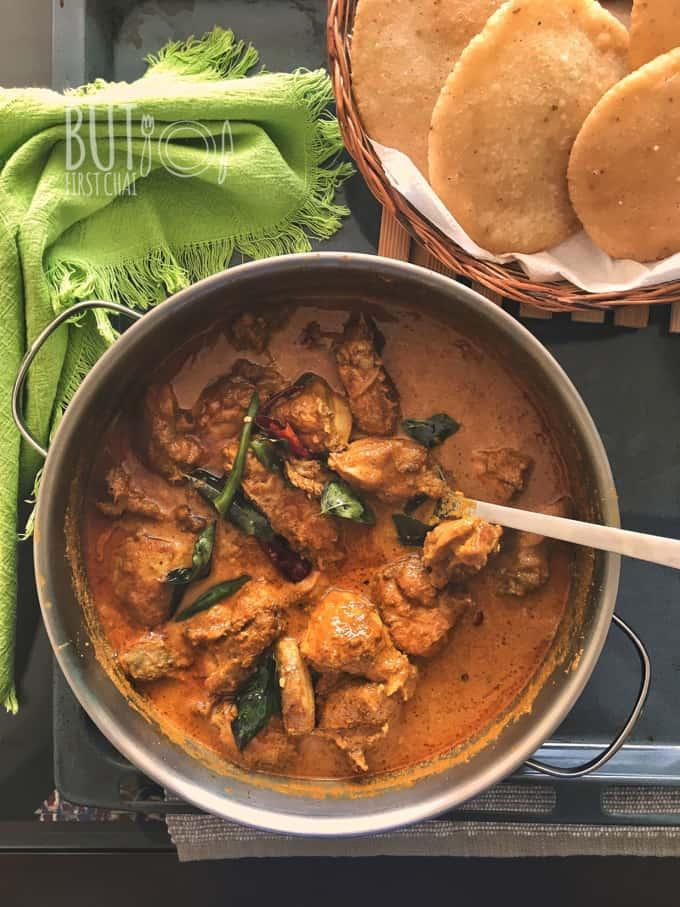chicken: (100, 354, 562, 772)
